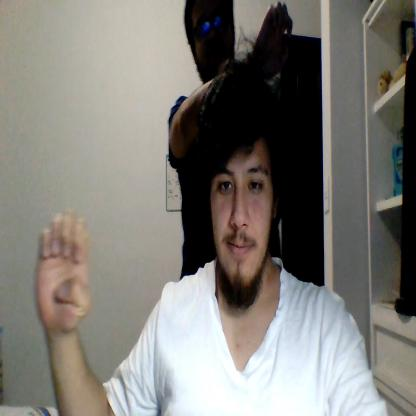E: (34, 208, 90, 334)
